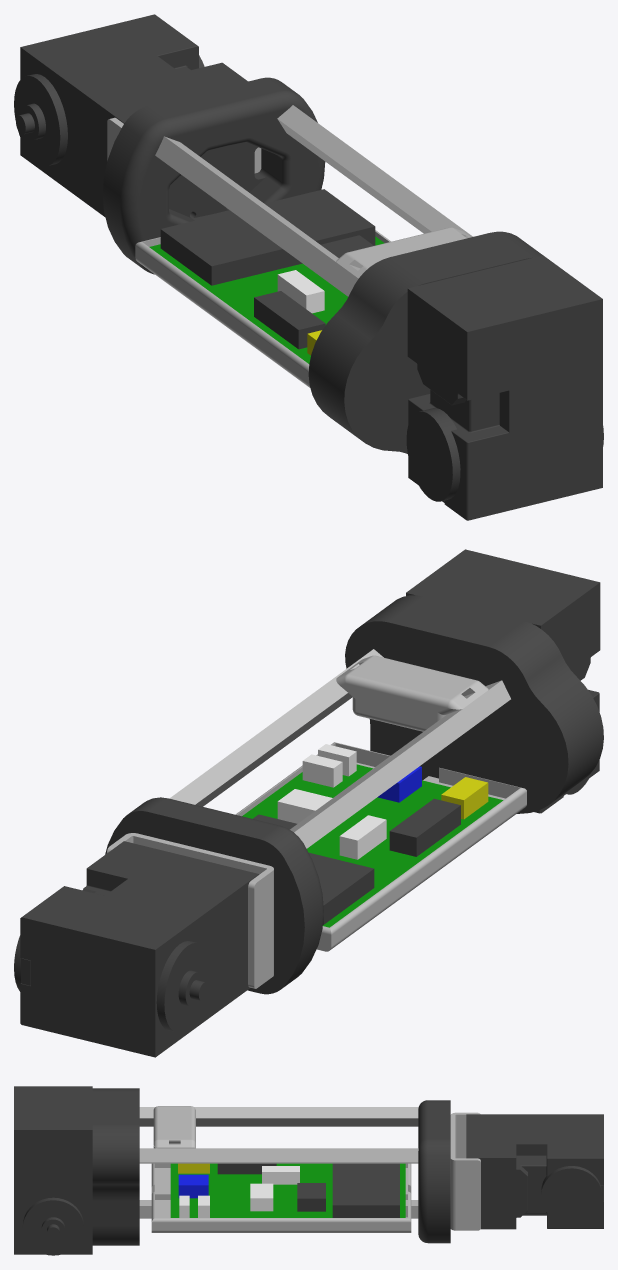
File: link3CGSimple.dae
3 renders of one model, top to bottom at view 1: azimuth 30°, elevation 25°; view 2: azimuth 150°, elevation 25°; view 3: azimuth 270°, elevation 25°, orthographic. The views are drawn at different scales.
Parts seen in each view (by area): view 1: _ncl1_30, link3CGSimple, _ncl1_22, _ncl1_28, _ncl1_18, _ncl1_6, _ncl1_4, _ncl1_8, _ncl1_20, _ncl1_10, _ncl1_12; view 2: _ncl1_22, _ncl1_28, link3CGSimple, _ncl1_30, _ncl1_10, _ncl1_20, _ncl1_8, _ncl1_6, _ncl1_4, _ncl1_18, _ncl1_24, _ncl1_12 (+2 smaller); view 3: _ncl1_22, _ncl1_30, _ncl1_28, _ncl1_8, _ncl1_20, _ncl1_18, _ncl1_6, link3CGSimple, _ncl1_4, _ncl1_24, _ncl1_12, _ncl1_10 (+3 smaller).
Boxes of the visible parts, x1,y1,x2,y2 form: _ncl1_30: (406, 255, 603, 520); link3CGSimple: (102, 77, 325, 274); _ncl1_22: (14, 14, 247, 217); _ncl1_28: (308, 231, 542, 453); _ncl1_18: (160, 189, 375, 349); _ncl1_6: (155, 136, 358, 296); _ncl1_4: (277, 105, 472, 237); _ncl1_8: (135, 230, 390, 387); _ncl1_20: (149, 236, 384, 363); _ncl1_10: (336, 227, 470, 278); _ncl1_12: (277, 270, 324, 313); _ncl1_22: (14, 841, 258, 1057); _ncl1_28: (345, 595, 603, 813); link3CGSimple: (105, 797, 323, 994); _ncl1_30: (406, 549, 600, 813); _ncl1_10: (336, 655, 488, 731); _ncl1_20: (242, 764, 503, 927); _ncl1_8: (235, 742, 526, 951); _ncl1_6: (290, 680, 510, 848); _ncl1_4: (169, 649, 383, 806); _ncl1_18: (253, 798, 460, 924); _ncl1_24: (106, 833, 273, 988); _ncl1_12: (277, 744, 386, 859); _ncl1_22: (466, 1114, 603, 1229); _ncl1_30: (14, 1086, 92, 1255); _ncl1_28: (92, 1088, 139, 1245); _ncl1_8: (151, 1163, 411, 1232); _ncl1_20: (170, 1163, 405, 1217); _ncl1_18: (217, 1163, 399, 1217); _ncl1_6: (139, 1107, 418, 1126); link3CGSimple: (418, 1100, 450, 1243); _ncl1_4: (139, 1148, 418, 1163); _ncl1_24: (450, 1112, 480, 1230); _ncl1_12: (179, 1166, 299, 1217); _ncl1_10: (153, 1106, 195, 1148).
Bounding box in the file's own units: 0.0755 × 0.06 × 0.251.
